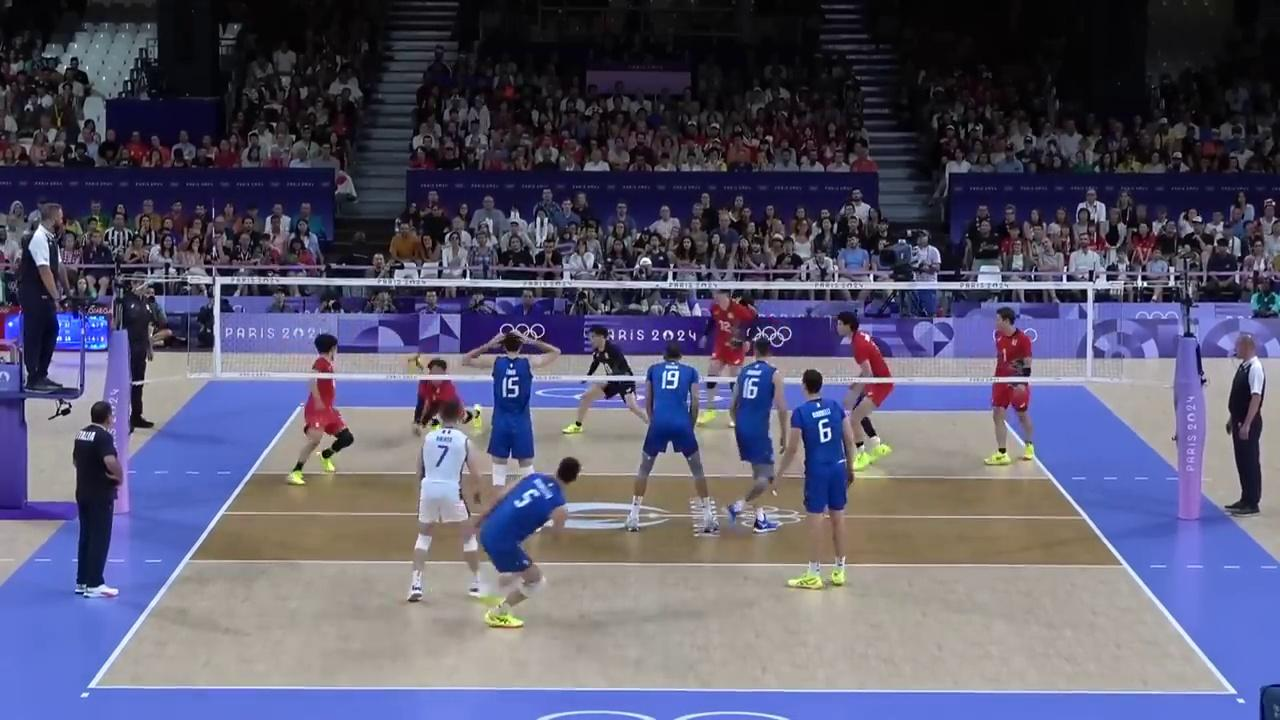ball: (405, 353, 425, 371)
